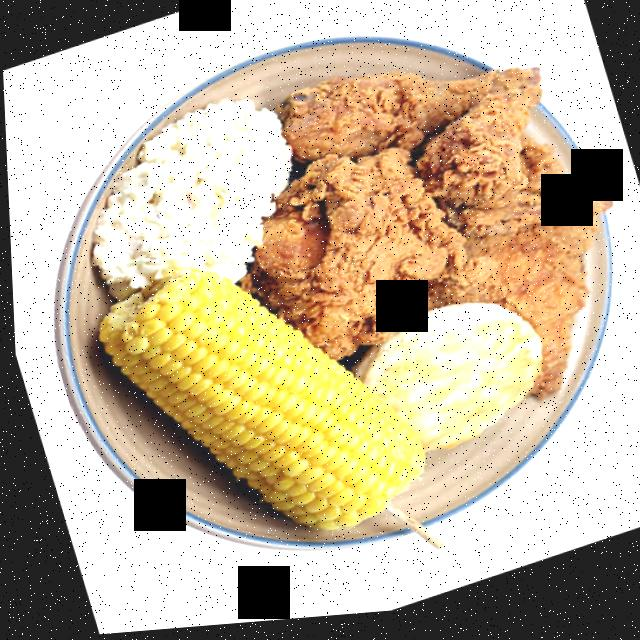Frango: (188, 5, 640, 491)
